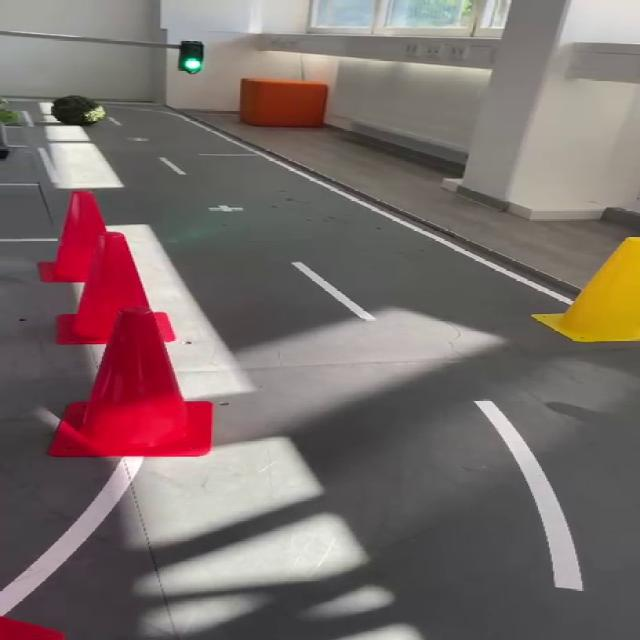Cone-red: (50, 310, 212, 457), (59, 232, 149, 344), (40, 191, 106, 282), (0, 615, 65, 639)
Cones-yellow: (531, 237, 639, 342)
